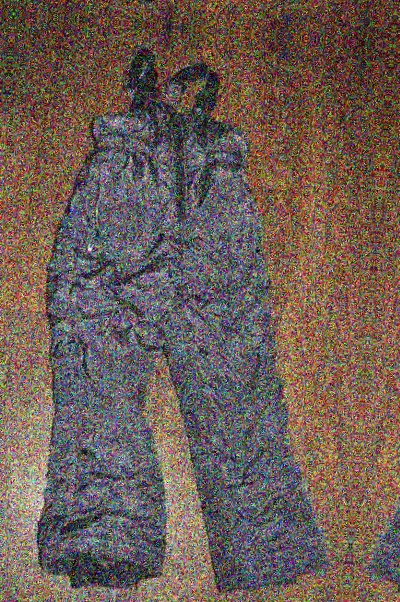Pants: (2, 74, 353, 602), (381, 106, 400, 602)
